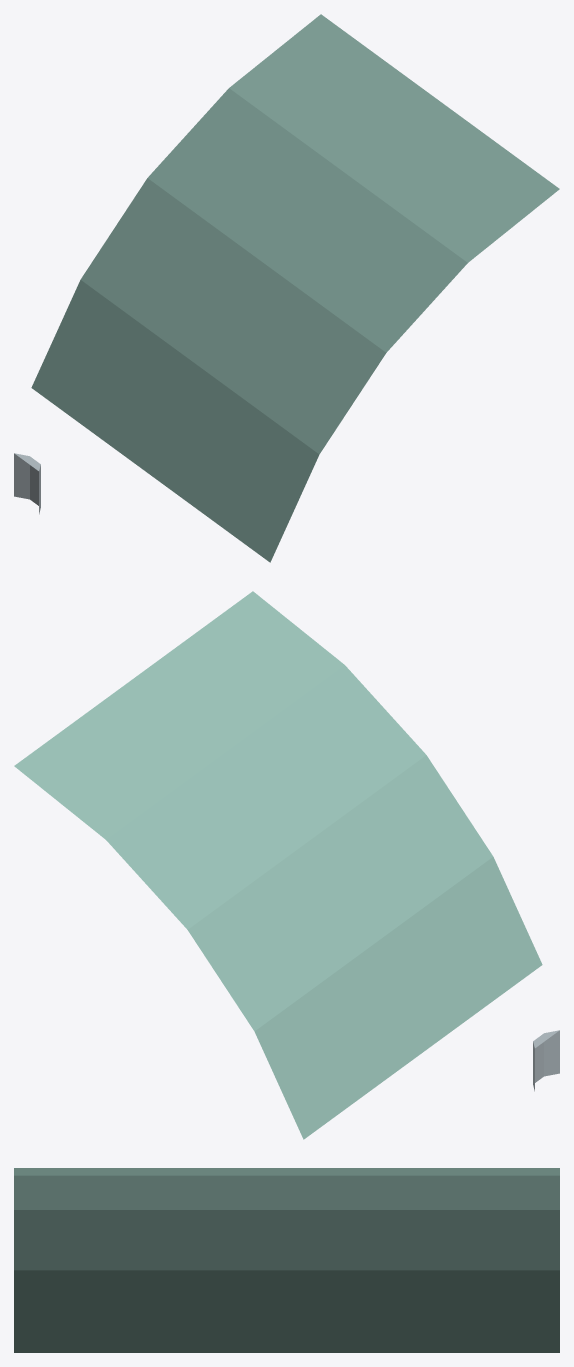
Rendered from cell_151.obj.
3 views of the same model, one above another, from view 1: azimuth 30°, elevation 25°; view 2: azimuth 150°, elevation 25°; view 3: azimuth 270°, elevation 25° (orthographic). The views are drawn at different scales.
Bounding box in the file's own units: 1 × 0.6997 × 1.
